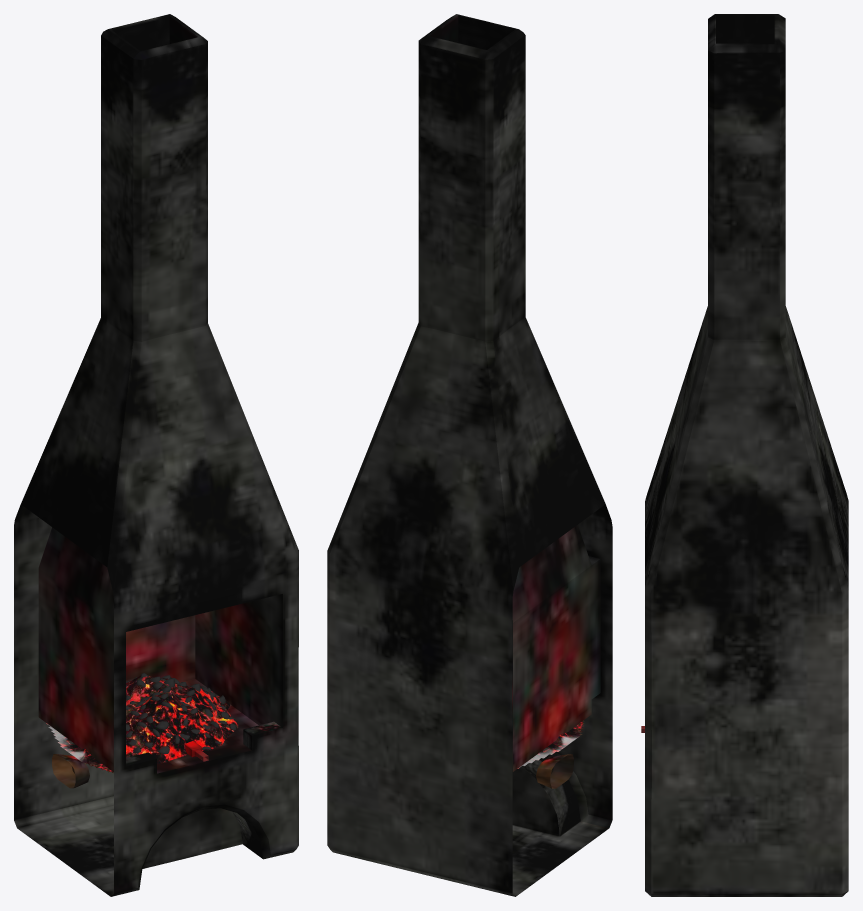
Rendered from furnace.glb.
3 renders of one model, left to right at view 1: azimuth 30°, elevation 25°; view 2: azimuth 150°, elevation 25°; view 3: azimuth 270°, elevation 25°, orthographic.
Parts seen in each view (by area): view 1: furnace; view 2: furnace; view 3: furnace.
Part boxes in pixels (bbox=[...]): furnace: bbox=[14, 14, 298, 896]; furnace: bbox=[327, 14, 612, 896]; furnace: bbox=[641, 14, 848, 896].
Bounding box in the file's own units: 1.07 × 4.4 × 1.01.
1 material, 1 textured.
